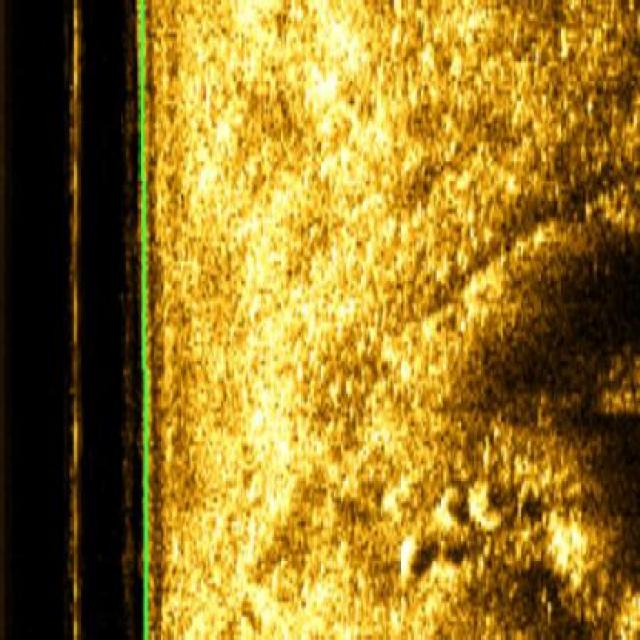bedrock group: (175, 0, 638, 638)
